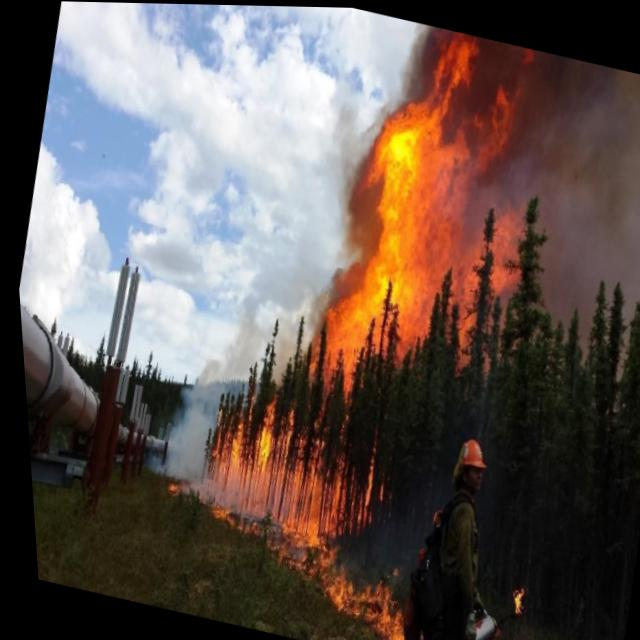Fire: (120, 2, 487, 596), (284, 6, 595, 406), (301, 536, 555, 640)
